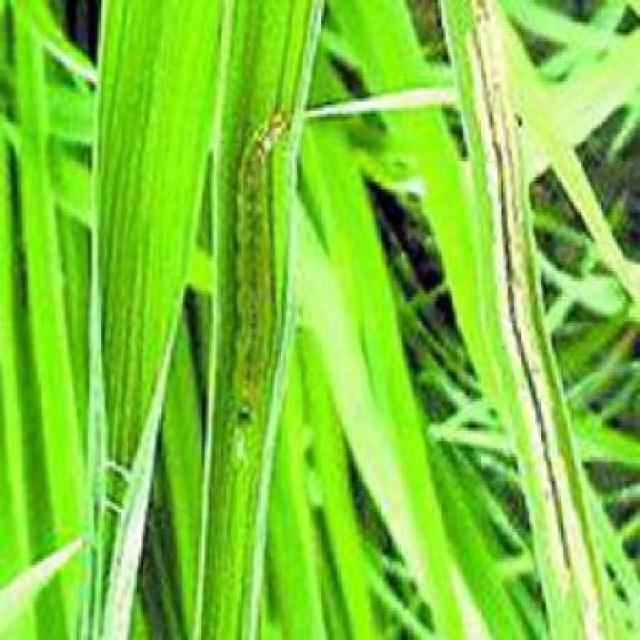leaf-folder: (196, 78, 306, 474)
